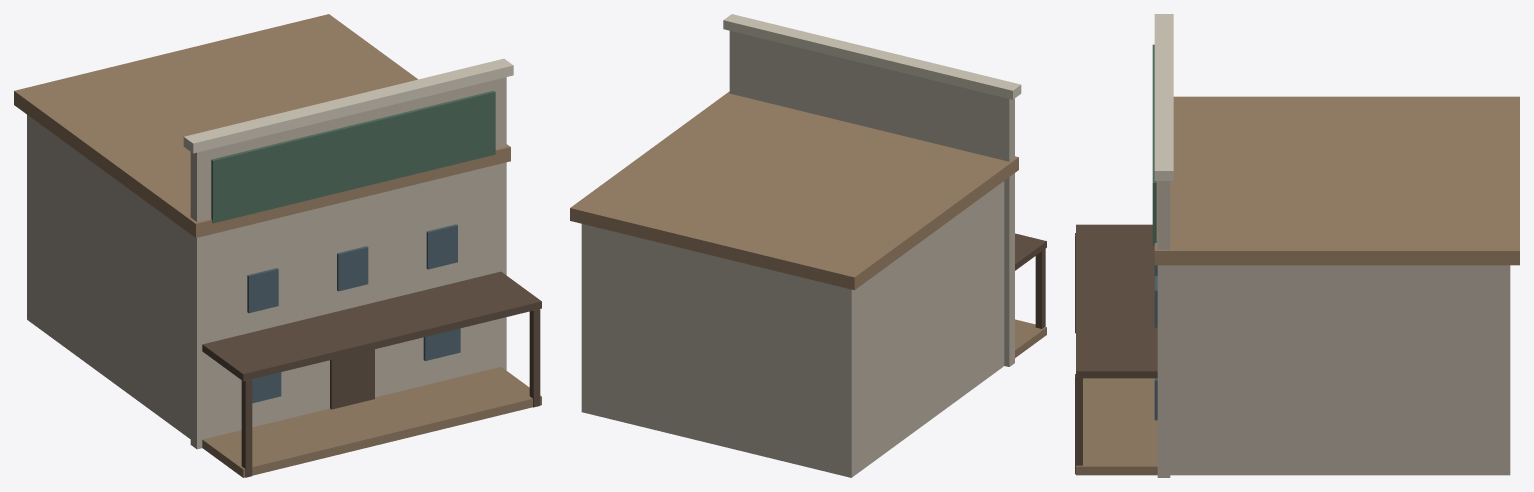
Rendered from w_bank.glb.
The picture shows the model from 3 angles, left to right: view 1: azimuth 30°, elevation 25°; view 2: azimuth 150°, elevation 25°; view 3: azimuth 270°, elevation 25°; orthographic projection. The views are drawn at different scales.
Visible parts, largest first — view 1: koerper; view 2: koerper; view 3: koerper.
Part boxes in pixels (bbox=[...]): koerper: bbox=[14, 14, 541, 477]; koerper: bbox=[570, 14, 1046, 477]; koerper: bbox=[1075, 14, 1519, 477].
Size of the model in its own units: 11.8 by 10.85 by 14.12.
